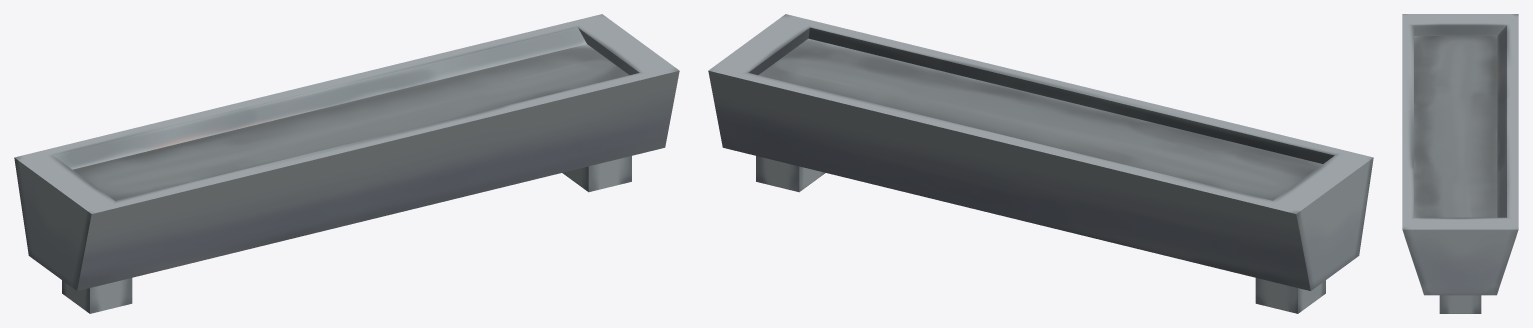
File: FarmFeedTray_Empty.fbx
The picture shows the model from 3 angles, left to right: view 1: azimuth 30°, elevation 25°; view 2: azimuth 150°, elevation 25°; view 3: azimuth 270°, elevation 25°; orthographic projection. The views are drawn at different scales.
Visible parts, largest first — view 1: FarmFeedTray_Empty; view 2: FarmFeedTray_Empty; view 3: FarmFeedTray_Empty.
Boxes of the visible parts, bbox=[...] form: FarmFeedTray_Empty: bbox=[14, 14, 679, 313]; FarmFeedTray_Empty: bbox=[708, 14, 1373, 313]; FarmFeedTray_Empty: bbox=[1402, 14, 1518, 313].
Bounding box in the file's own units: 475 × 95.43 × 108.
Materials: 1 (1 with a texture image).
